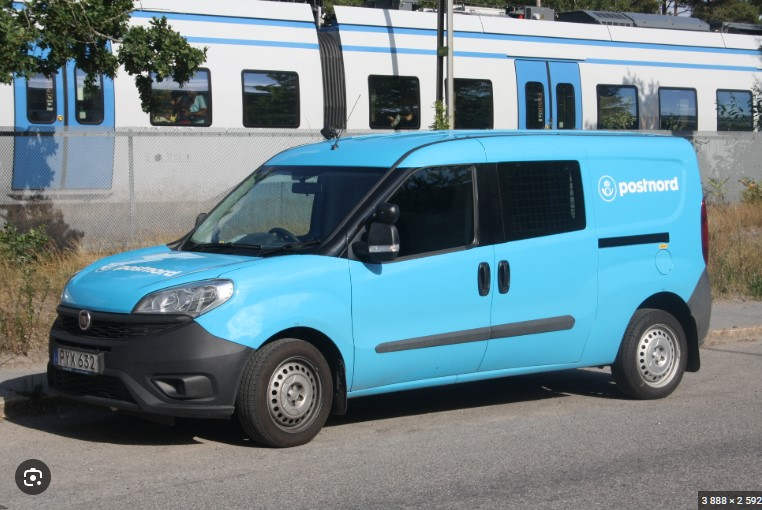postnord: (42, 126, 716, 452)
